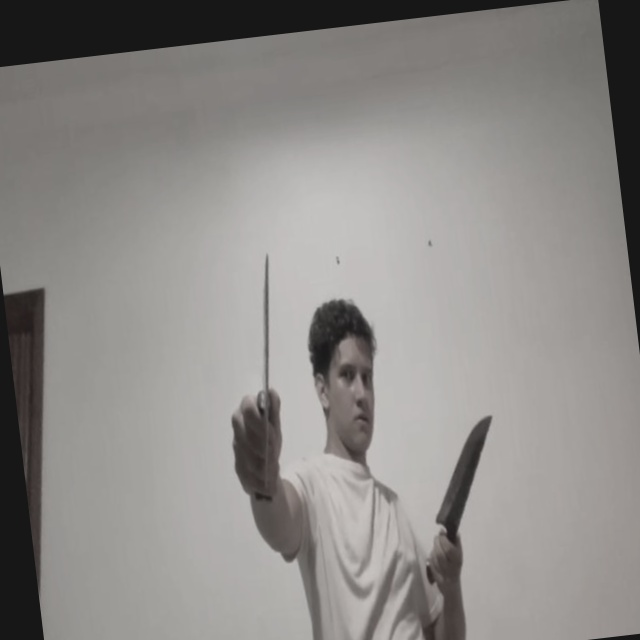Sharp-Object: (235, 250, 297, 498), (422, 410, 504, 529)
